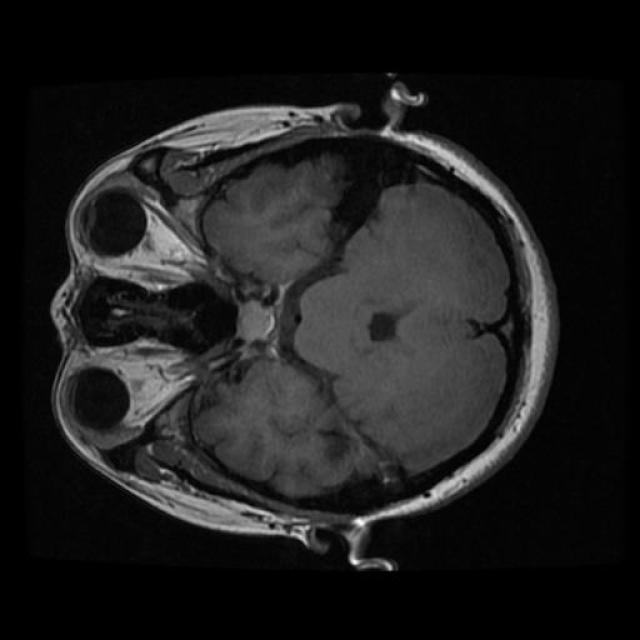Pituitary: (231, 286, 282, 361)
